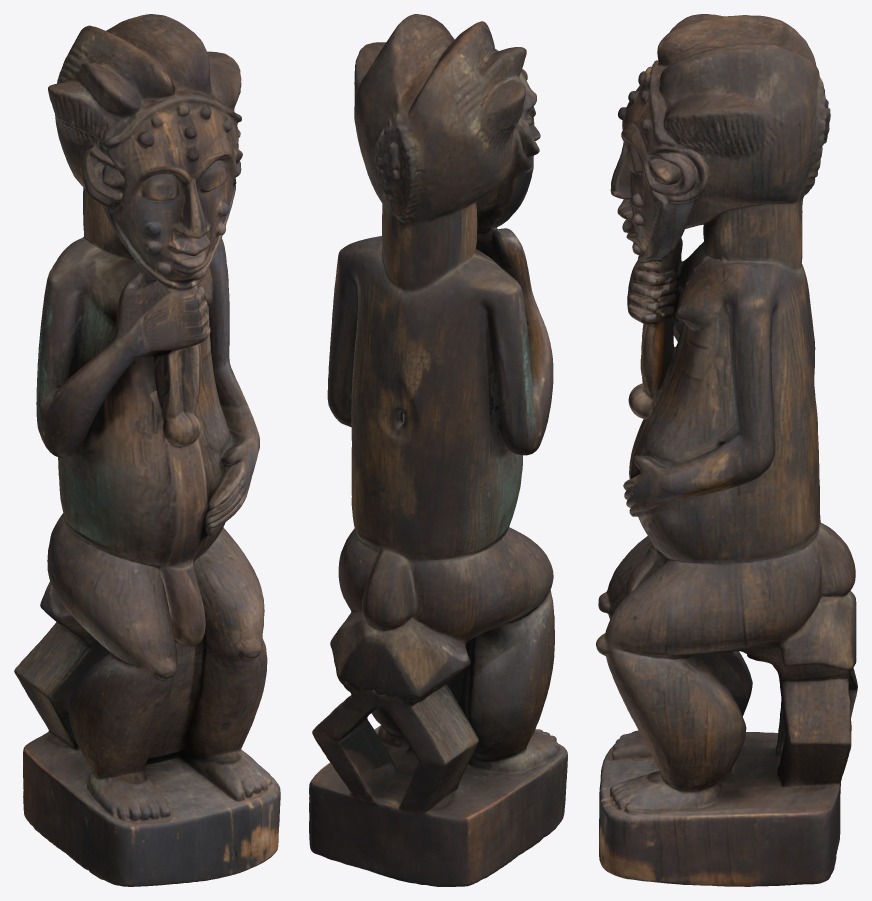
3 views of the same model, side by side, from view 1: azimuth 30°, elevation 25°; view 2: azimuth 150°, elevation 25°; view 3: azimuth 270°, elevation 25° (orthographic).
Size of the model in its own units: 0.4891 by 1.9 by 0.5538.
1 material, 1 textured.
